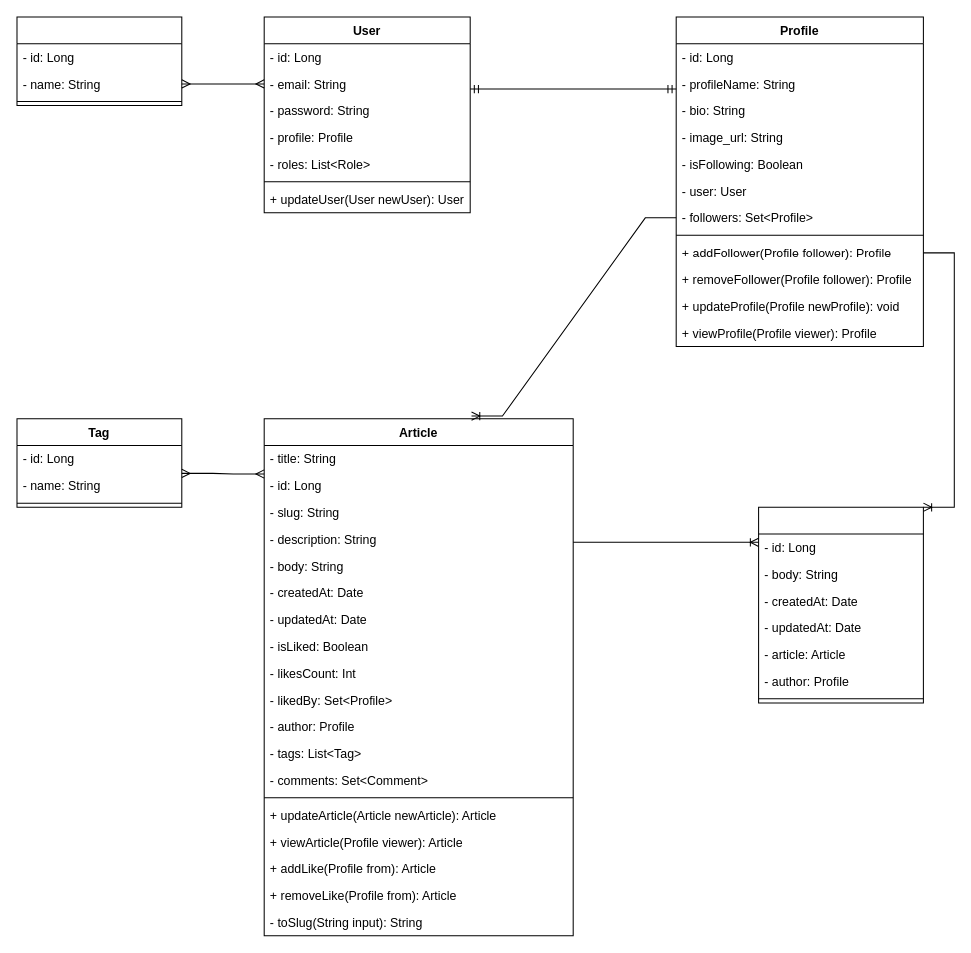
Image size: 971x953. Some labels were removed from this diagram. The shapes that lost their labels are listed below. From the top down, each one's box as (x1, y1, x2, y2) in pixels, then its label:
(16, 16, 182, 106): Role
(758, 506, 923, 703): Comment
